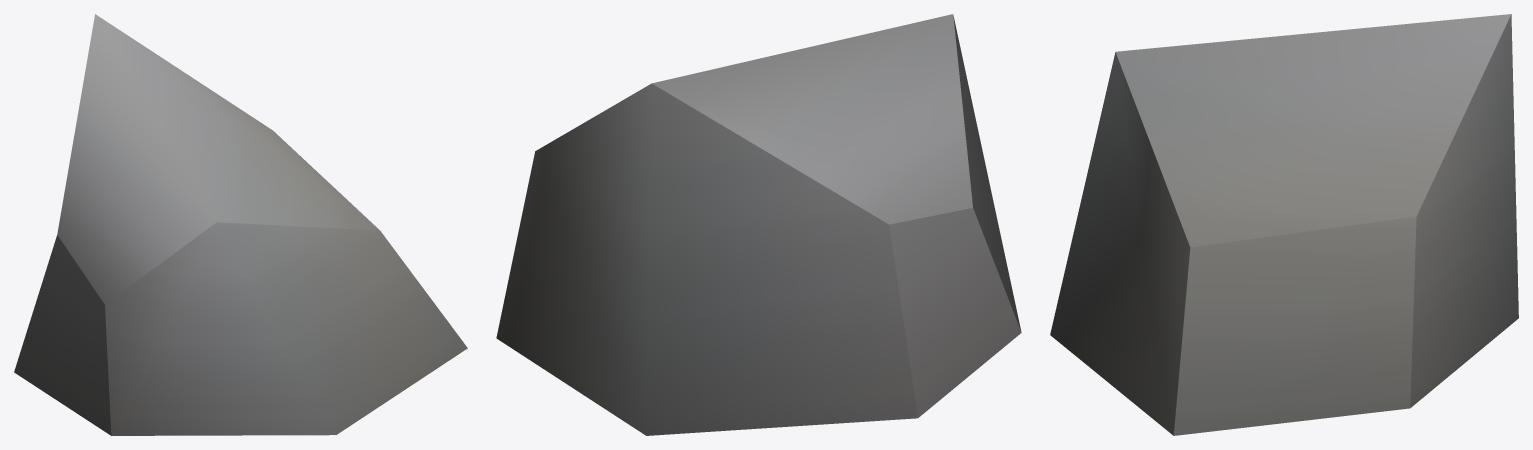
The picture shows the model from 3 angles, left to right: view 1: azimuth 30°, elevation 25°; view 2: azimuth 150°, elevation 25°; view 3: azimuth 270°, elevation 25°; orthographic projection. The views are drawn at different scales.
Visible parts, largest first — view 1: Rock002; view 2: Rock002; view 3: Rock002.
Boxes of the visible parts, <box> form: Rock002: <box>14,14,467,435</box>; Rock002: <box>496,14,1021,435</box>; Rock002: <box>1050,14,1518,435</box>.
Size of the model in its own units: 3.03 by 2.19 by 3.06.
Materials: 1 (1 with a texture image).
